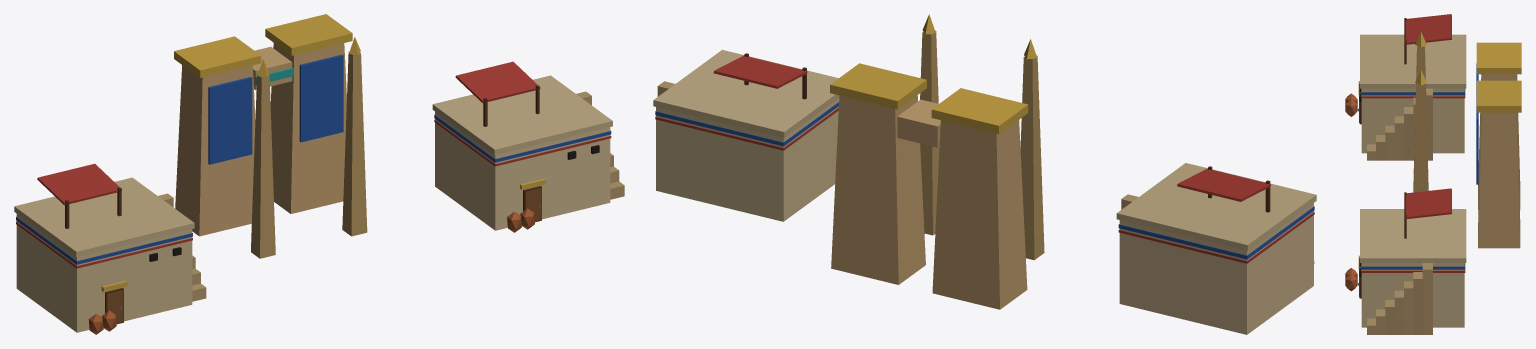
File: gnoll_court_broken.glb
3 renders of one model, left to right at view 1: azimuth 30°, elevation 25°; view 2: azimuth 150°, elevation 25°; view 3: azimuth 270°, elevation 25°, orthographic. The views are drawn at different scales.
Visible parts, largest first — view 1: gnoll_court_piece3, gnoll_court_piece1, gnoll_court_piece4, gnoll_court_piece2, gnoll_court_piece5, gnoll_court_piece11, gnoll_court_piece7, gnoll_court_piece6, gnoll_court_piece0, gnoll_court_piece10, gnoll_court_piece13; view 2: gnoll_court_piece3, gnoll_court_piece2, gnoll_court_piece5, gnoll_court_piece13, gnoll_court_piece4, gnoll_court_piece1, gnoll_court_piece0, gnoll_court_piece6, gnoll_court_piece9, gnoll_court_piece8, gnoll_court_piece11, gnoll_court_piece7 (+1 smaller); view 3: gnoll_court_piece5, gnoll_court_piece3, gnoll_court_piece13, gnoll_court_piece2, gnoll_court_piece8, gnoll_court_piece1, gnoll_court_piece0, gnoll_court_piece4, gnoll_court_piece9, gnoll_court_piece7, gnoll_court_piece11, gnoll_court_piece6.
Boxes of the visible parts, x1,y1,x2,y2 form: gnoll_court_piece3: (14, 163, 206, 334); gnoll_court_piece1: (191, 37, 363, 258); gnoll_court_piece4: (270, 62, 367, 236); gnoll_court_piece2: (174, 29, 346, 210); gnoll_court_piece5: (453, 61, 624, 205); gnoll_court_piece11: (464, 132, 549, 232); gnoll_court_piece7: (444, 98, 598, 213); gnoll_court_piece6: (175, 129, 228, 236); gnoll_court_piece0: (315, 14, 500, 193); gnoll_court_piece10: (445, 129, 565, 217); gnoll_court_piece13: (266, 17, 352, 60); gnoll_court_piece3: (1116, 163, 1316, 333); gnoll_court_piece2: (868, 65, 1018, 299); gnoll_court_piece5: (653, 49, 790, 218); gnoll_court_piece13: (831, 63, 897, 270); gnoll_court_piece4: (868, 143, 952, 297); gnoll_court_piece1: (920, 14, 1044, 260); gnoll_court_piece0: (762, 66, 852, 226); gnoll_court_piece6: (959, 208, 1137, 309); gnoll_court_piece9: (1119, 256, 1248, 334); gnoll_court_piece8: (842, 149, 888, 277); gnoll_court_piece11: (809, 71, 839, 197); gnoll_court_piece7: (763, 59, 821, 213); gnoll_court_piece5: (1359, 193, 1466, 334); gnoll_court_piece3: (1345, 14, 1466, 160); gnoll_court_piece13: (1476, 81, 1521, 248); gnoll_court_piece2: (1476, 42, 1521, 199); gnoll_court_piece8: (1476, 117, 1520, 248); gnoll_court_piece1: (1413, 32, 1491, 206); gnoll_court_piece0: (1405, 101, 1521, 221); gnoll_court_piece4: (1414, 129, 1520, 248); gnoll_court_piece9: (1405, 128, 1464, 160); gnoll_court_piece7: (1359, 192, 1409, 266); gnoll_court_piece11: (1345, 209, 1399, 298); gnoll_court_piece6: (1427, 107, 1520, 196).
Size of the model in its own units: 6.34 by 2.14 by 2.05.
